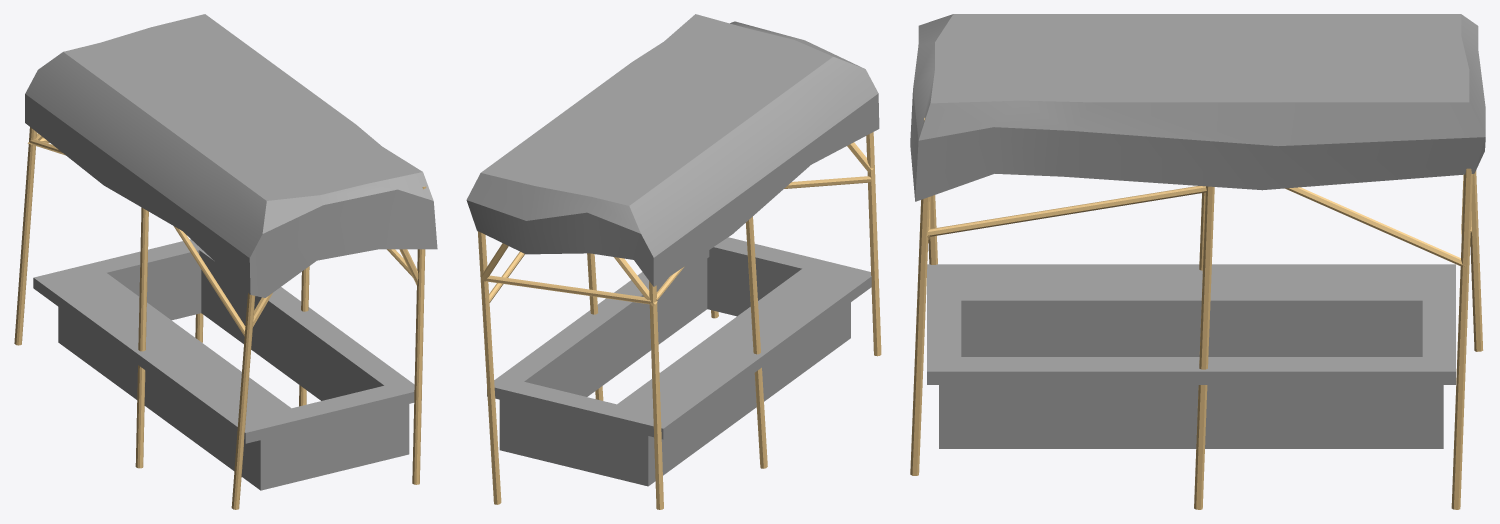
Rendered from TallMarket.fbx.
3 renders of one model, left to right at view 1: azimuth 30°, elevation 25°; view 2: azimuth 150°, elevation 25°; view 3: azimuth 270°, elevation 25°, orthographic. The views are drawn at different scales.
Parts seen in each view (by area): view 1: polySurface69, polySurface67, polySurface62, polySurface55, polySurface61, polySurface59, polySurface64, polySurface68; view 2: polySurface69, polySurface67, polySurface66, polySurface62, polySurface59, polySurface61, polySurface63, polySurface64, polySurface68; view 3: polySurface69, polySurface67, polySurface66, polySurface68, polySurface55, polySurface54, polySurface58, polySurface59.
Part boxes in pixels (x1,y1,x2,y2): polySurface69: (25, 14, 437, 297); polySurface67: (33, 239, 421, 490); polySurface62: (135, 207, 148, 468); polySurface55: (412, 186, 426, 484); polySurface61: (231, 293, 255, 509); polySurface59: (14, 127, 36, 345); polySurface64: (173, 226, 245, 336); polySurface68: (299, 266, 309, 406); polySurface69: (466, 14, 879, 286); polySurface67: (487, 237, 871, 486); polySurface66: (477, 231, 501, 504); polySurface62: (746, 216, 767, 468); polySurface59: (649, 281, 663, 509); polySurface61: (866, 132, 881, 356); polySurface63: (485, 275, 651, 304); polySurface64: (784, 176, 871, 188); polySurface68: (587, 253, 603, 400); polySurface69: (910, 14, 1485, 201); polySurface67: (927, 264, 1455, 448); polySurface66: (1451, 168, 1472, 509); polySurface68: (1194, 186, 1214, 509); polySurface55: (910, 118, 929, 475); polySurface54: (926, 186, 1206, 236); polySurface58: (1285, 187, 1464, 266); polySurface59: (1470, 170, 1483, 351).
Size of the model in its own units: 6.05 by 9.77 by 12.34.
